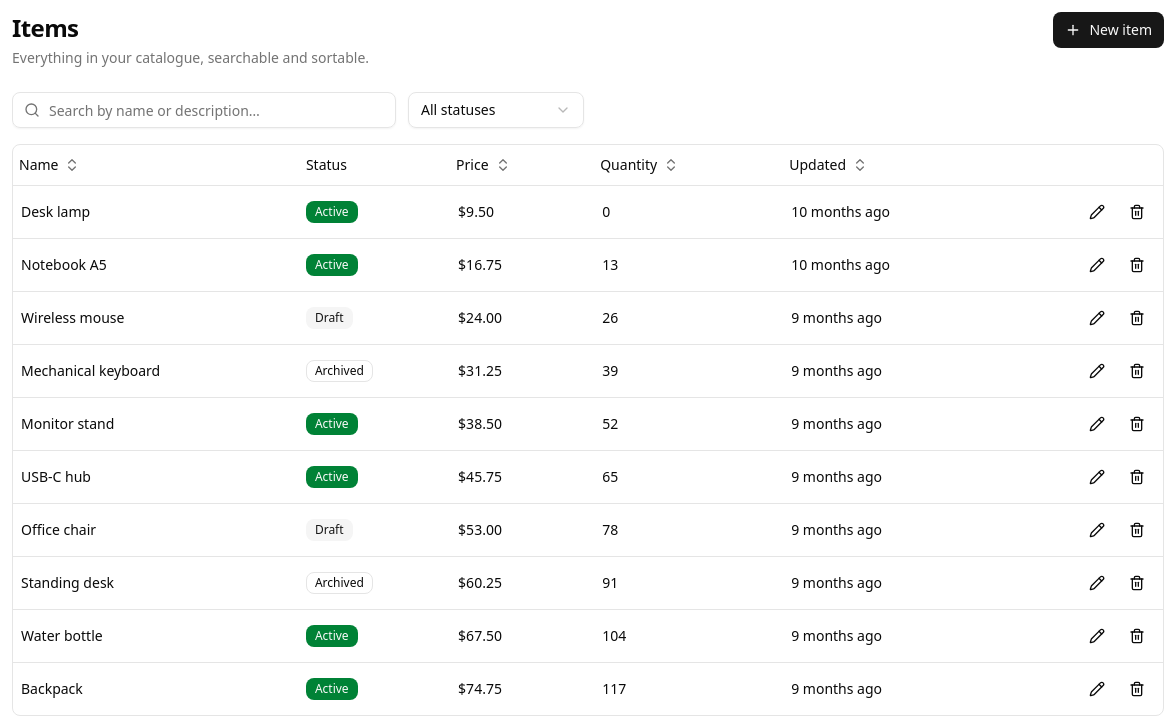
Test case: ItemsListPage › filters by status
Check: the link "Desk lamp" is shown, box top-left (21, 202), bottom-right (90, 220)
Step 1. Click the dropdown named "Filter by status" → (496, 110), box top-left (408, 92), bottom-right (584, 128)
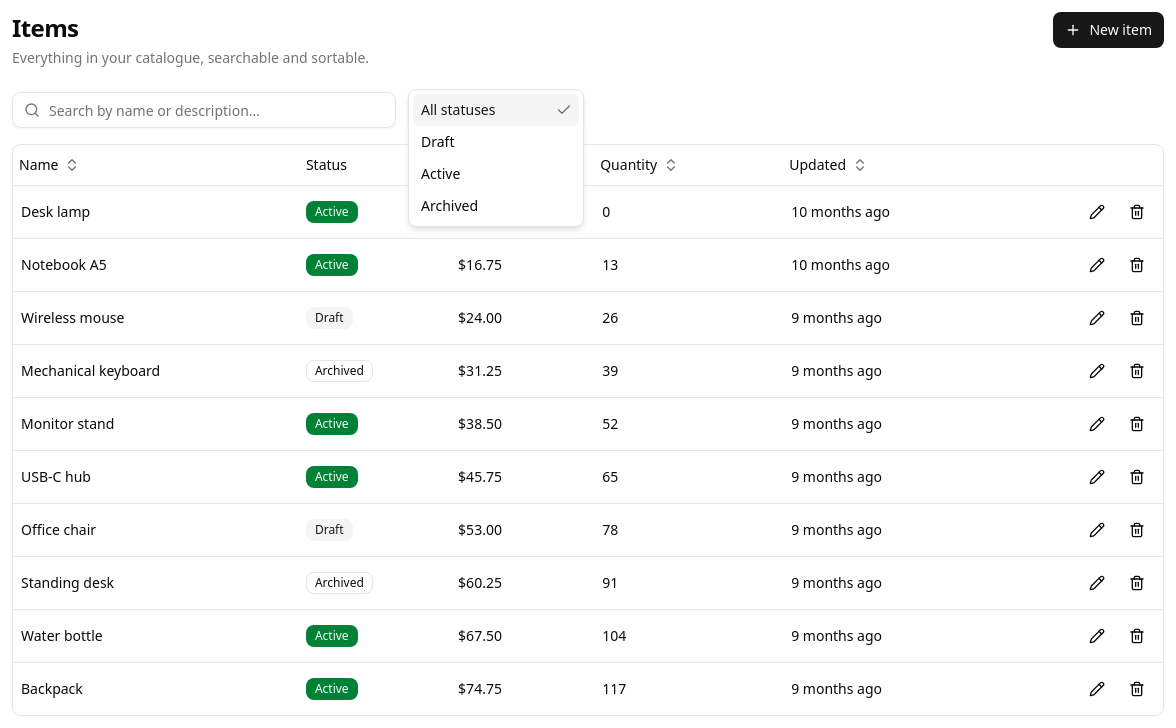
Step 2. Click the option "Archived" → (450, 206), box top-left (421, 196), bottom-right (478, 215)
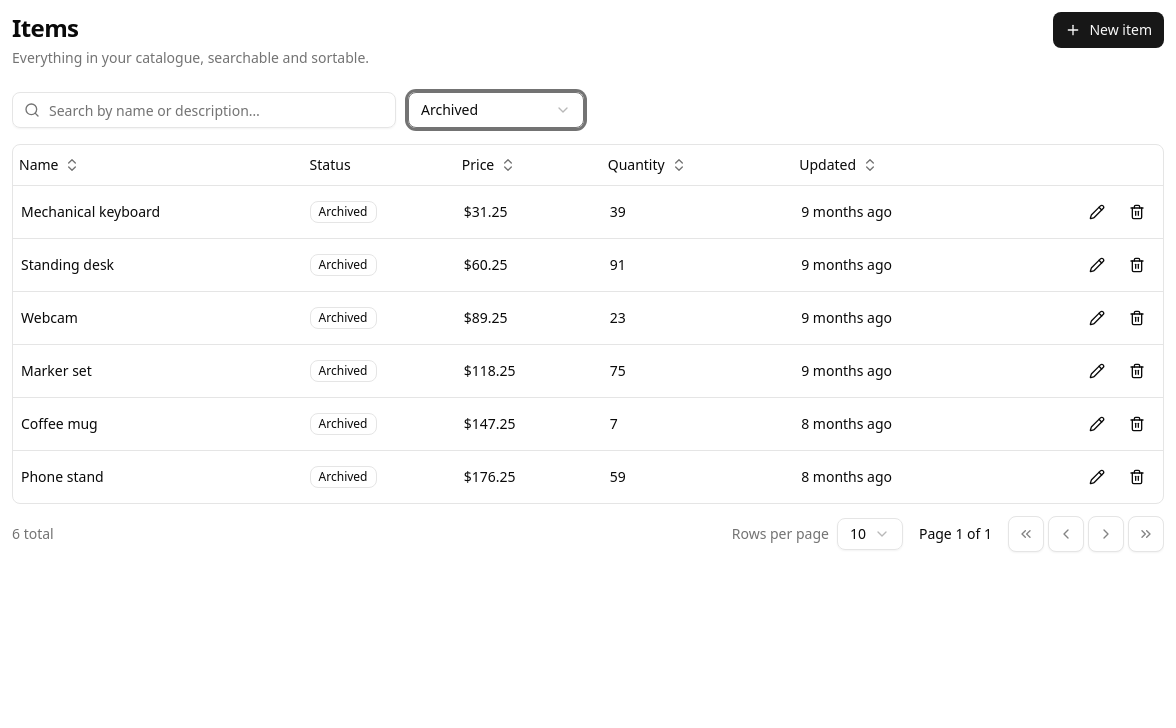
Check: the text "6 total" is shown, box top-left (12, 524), bottom-right (54, 544)
